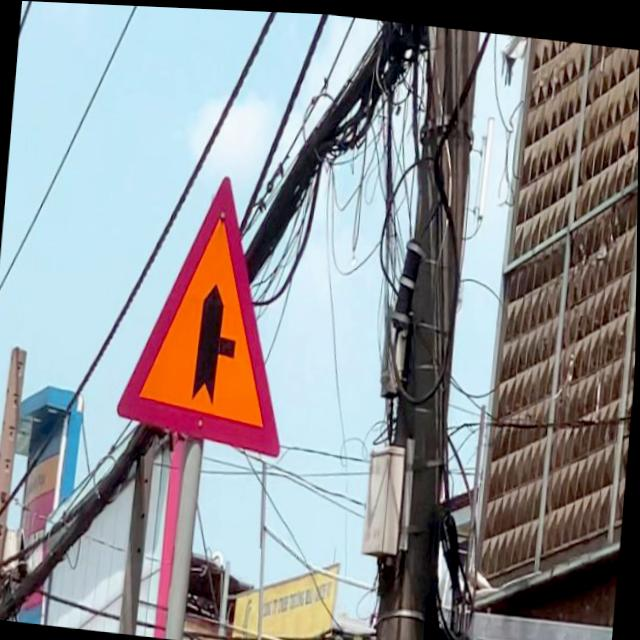Giao nhau voi duong khong uu tien ben phai: (108, 145, 310, 473)
